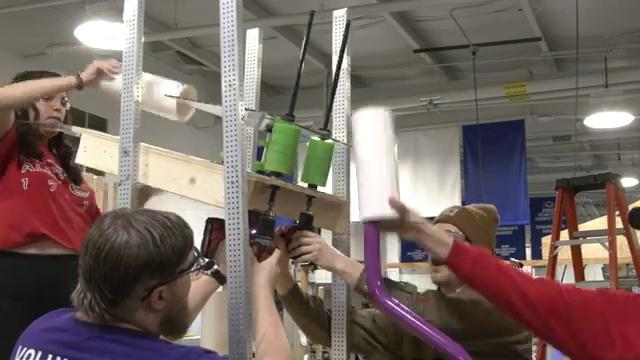CORAL: (350, 106, 400, 222), (99, 70, 198, 123)
